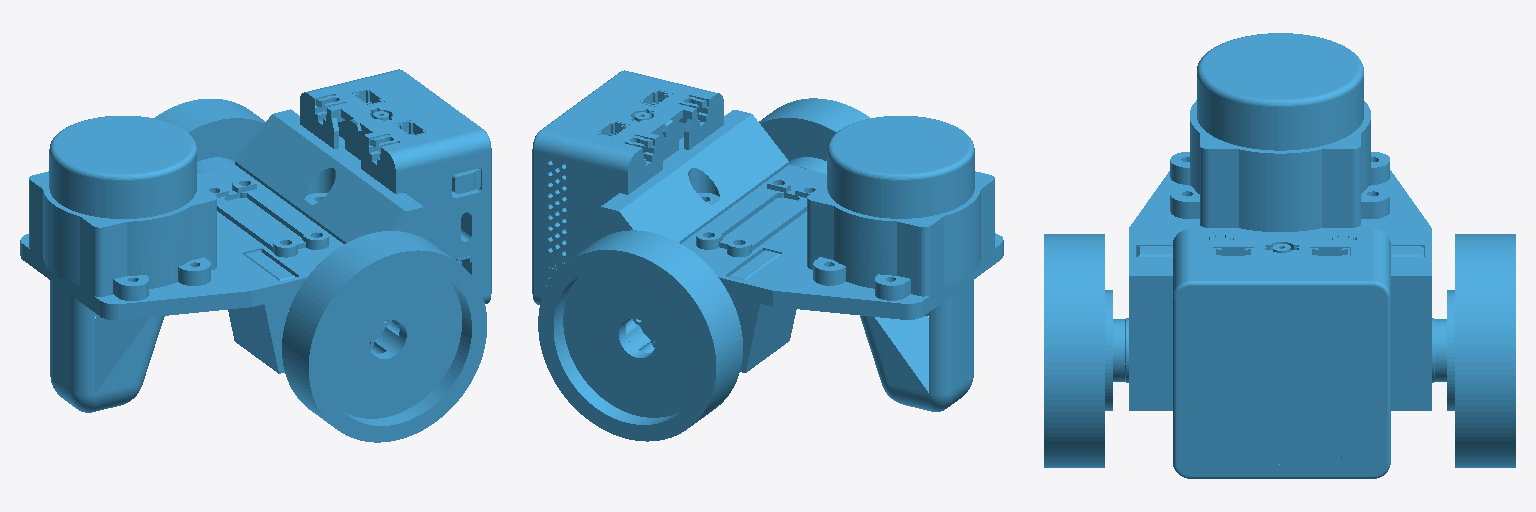
The robot description file, URDF, robot "MiniM5Robo":
<?xml version="1.0"?>
<robot name="MiniM5Robo" xmlns:xacro="http://ros.org/wiki/xacro">
	<link name="base_link"/>
	<joint name="body_joint" type="fixed">
		<parent link="base_link"/>
		<child  link="body_link"/>
		<origin xyz="0 0 0" rpy="0 0 0"/>
	</joint>
	<link name="body_link">
		<visual>
			<geometry>
				<mesh filename="package://minim5robo_bridge/urdf/stl/MiniM5Robo.stl"/>
				<!-- <mesh filename="stl/MiniM5Robo.stl"/> -->
			</geometry>
		</visual>
		<material name="gray">
			<color rgba="0.8 0.8 0.8 0.5"/>
		</material>
	</link>
</robot>

--- What the picture shows (computed from the rendered views, not written in the file) ---
Views: 3 orthographic renders of the robot side by side, from view 1: azimuth 30°, elevation 25°; view 2: azimuth 150°, elevation 25°; view 3: azimuth 270°, elevation 25°.
Robot: MiniM5Robo — 2 links, 1 joints (1 fixed); root link base_link; default pose: all joints at 0.
Visible links, largest first — view 1: body_link; view 2: body_link; view 3: body_link.
Link boxes in pixels (x1,y1,x2,y2): body_link: (20, 69, 491, 442); body_link: (532, 70, 1003, 441); body_link: (1044, 33, 1515, 478).
Size in the robot's own frame: 0.127 by 0.1166 by 0.0808 metres.
1 mesh visuals loaded from 1 distinct referenced files (1 binary STL).
